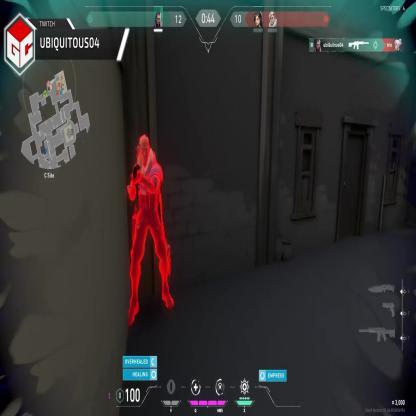enemy: (126, 134, 174, 326)
enemy_head: (138, 136, 151, 167)
